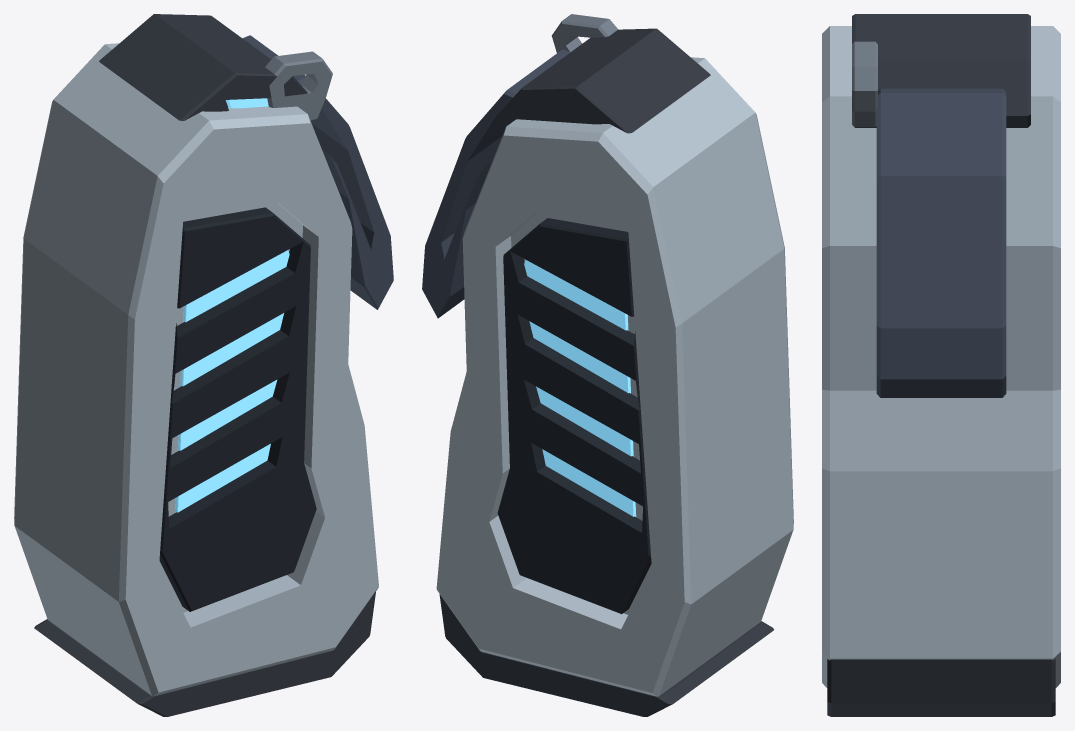
The model's file is Frost.fbx.
The picture shows the model from 3 angles, left to right: view 1: azimuth 30°, elevation 25°; view 2: azimuth 150°, elevation 25°; view 3: azimuth 270°, elevation 25°; orthographic projection. The views are drawn at different scales.
Visible parts, largest first — view 1: Body.001, VentPanel_Front, FuseHead.001, FootShoe.001, Lever.001, CoolingGrille_Front, Pin.001; view 2: Body.001, VentPanel_Rear, FuseHead.001, Lever.001, FootShoe.001, CoolingGrille_Rear, Pin.001; view 3: Body.001, Lever.001, FootShoe.001, FuseHead.001, Pin.001.
Boxes of the visible parts, x1,y1,x2,y2 form: Body.001: [14, 43, 378, 696]; VentPanel_Front: [159, 207, 316, 611]; FuseHead.001: [99, 14, 307, 120]; FootShoe.001: [34, 592, 375, 716]; Lever.001: [242, 35, 393, 309]; CoolingGrille_Front: [175, 250, 289, 512]; Pin.001: [265, 51, 332, 120]; Body.001: [436, 57, 793, 696]; VentPanel_Rear: [497, 218, 651, 614]; FuseHead.001: [494, 28, 710, 133]; Lever.001: [422, 49, 569, 318]; FootShoe.001: [439, 594, 773, 716]; CoolingGrille_Rear: [524, 259, 636, 516]; Pin.001: [551, 14, 618, 52]; Body.001: [822, 26, 1060, 687]; Lever.001: [876, 88, 1006, 397]; FootShoe.001: [827, 659, 1055, 716]; FuseHead.001: [852, 14, 1030, 127]; Pin.001: [852, 41, 877, 127].
Size of the model in its own units: 0.284 by 0.56 by 0.184.
